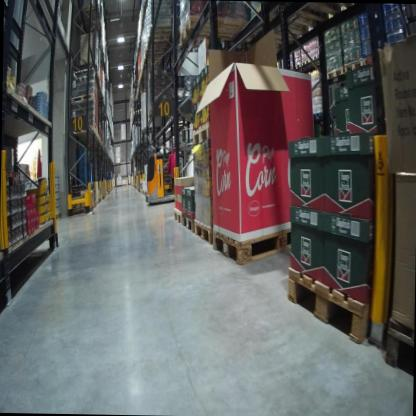pallet: (282, 264, 369, 353), (212, 224, 297, 268), (178, 11, 252, 48), (251, 10, 312, 48), (260, 3, 351, 27), (376, 314, 413, 371), (325, 63, 351, 91), (193, 215, 214, 246), (341, 55, 364, 78), (146, 23, 175, 40), (70, 92, 97, 108), (148, 104, 173, 118), (170, 205, 185, 228), (300, 57, 318, 73), (182, 214, 195, 236), (309, 52, 326, 68), (81, 5, 100, 18), (292, 62, 314, 73), (314, 110, 325, 119)
pallet_truck: (142, 127, 187, 209)
